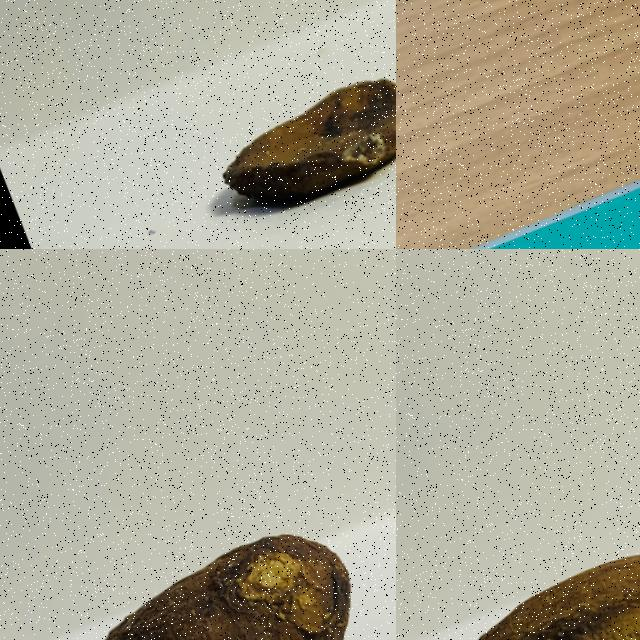Agglomerated_cocoabeans: (548, 112, 639, 248)
Fine_cocoabeans: (6, 451, 395, 639), (396, 448, 639, 639)
Flat_cocoabeans: (146, 0, 395, 248)
